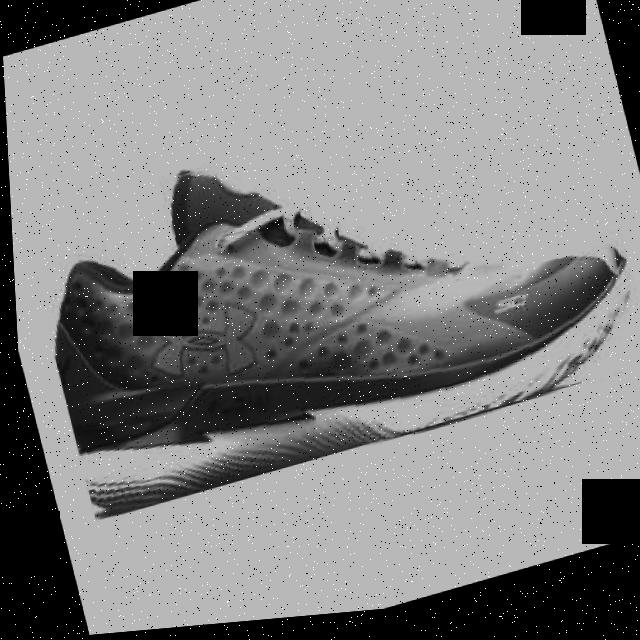shoe: (13, 64, 640, 527)
